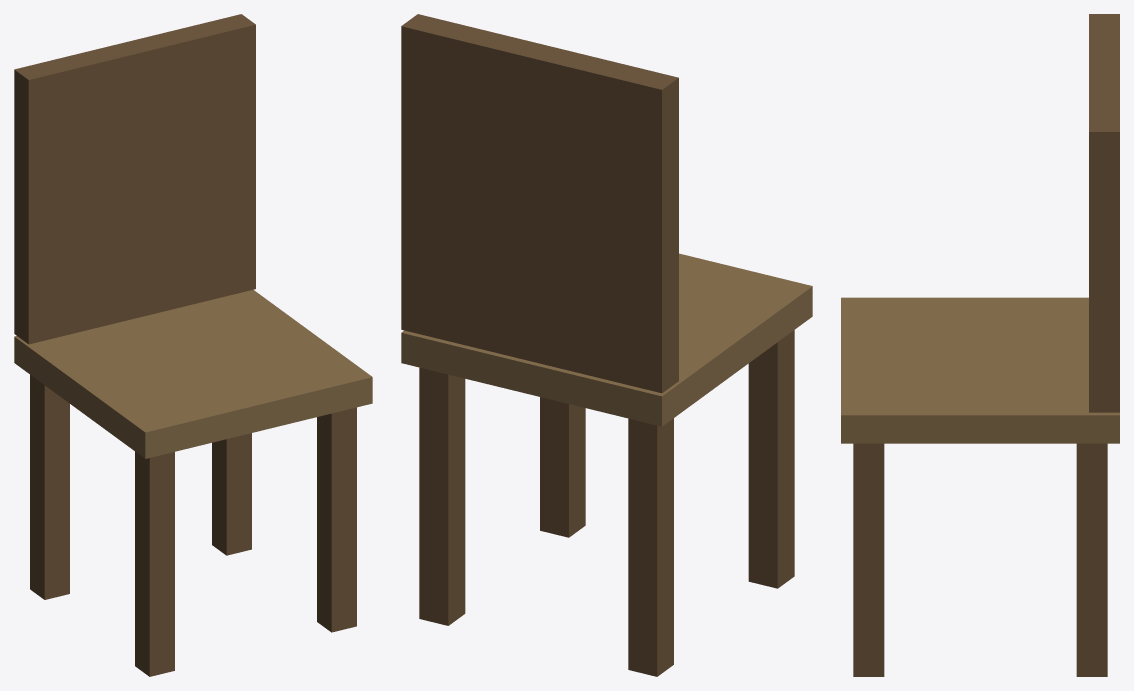
Rendered from chair.glb.
3 views of the same model, side by side, from view 1: azimuth 30°, elevation 25°; view 2: azimuth 150°, elevation 25°; view 3: azimuth 270°, elevation 25° (orthographic). The views are drawn at different scales.
Size of the model in its own units: 0.45 by 0.98 by 0.45.
